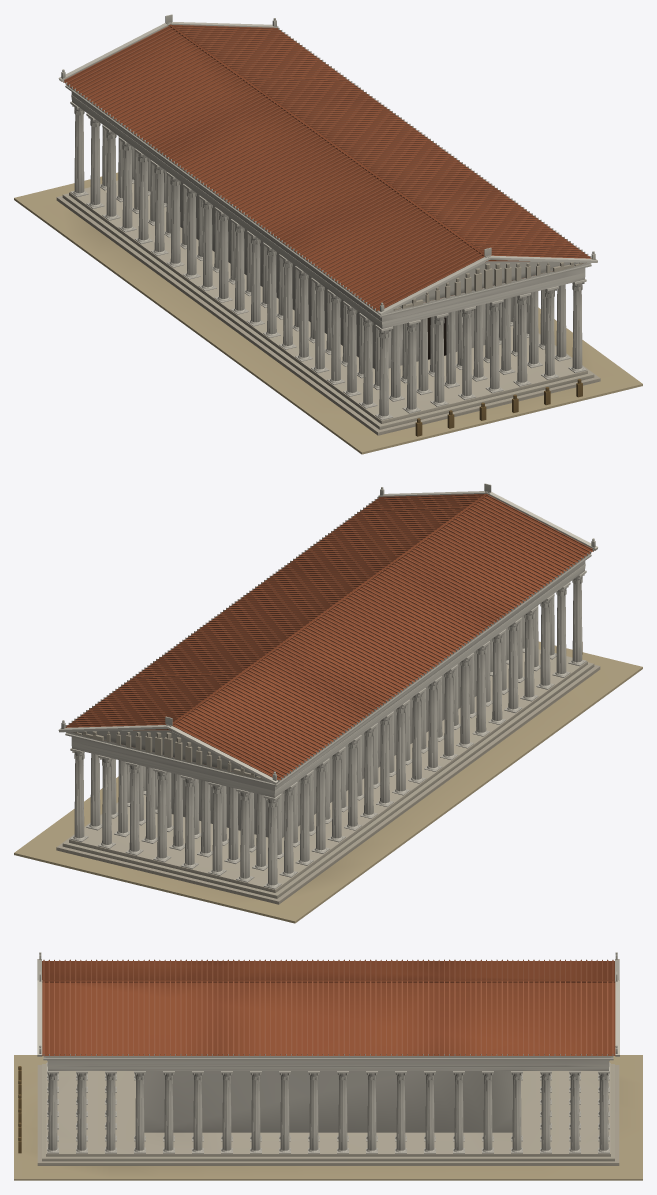
File: olympieion.glb
3 views of the same model, one above another, from view 1: azimuth 30°, elevation 25°; view 2: azimuth 150°, elevation 25°; view 3: azimuth 270°, elevation 25° (orthographic). The views are drawn at different scales.
Visible parts, largest first — view 1: p3_roof, p1_columns, p0_platform, p2_entablature; view 2: p3_roof, p1_columns, p0_platform, p2_entablature; view 3: p3_roof, p0_platform, p1_columns, p2_entablature.
Boxes of the visible parts, x1=… form: p3_roof: x1=58, y1=14, x2=597, y2=436; p1_columns: x1=70, y1=101, x2=586, y2=420; p0_platform: x1=14, y1=172, x2=642, y2=454; p2_entablature: x1=65, y1=85, x2=591, y2=328; p3_roof: x1=58, y1=483, x2=597, y2=784; p1_columns: x1=70, y1=570, x2=586, y2=889; p0_platform: x1=14, y1=641, x2=642, y2=923; p2_entablature: x1=65, y1=554, x2=591, y2=797; p3_roof: x1=18, y1=952, x2=619, y2=1153; p0_platform: x1=14, y1=1055, x2=642, y2=1180; p1_columns: x1=47, y1=1060, x2=609, y2=1153; p2_entablature: x1=43, y1=1056, x2=613, y2=1070.
Size of the model in its own units: 56 by 30.64 by 120.
